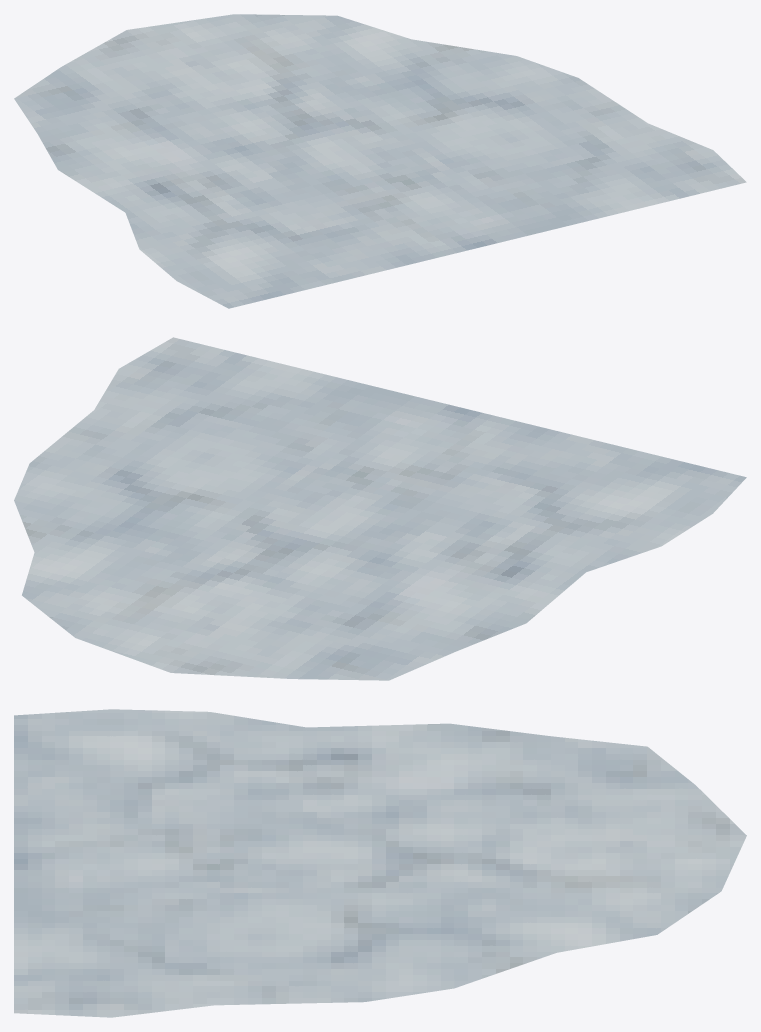
Rendered from SnowyRoadt Edge.fbx.
3 renders of one model, top to bottom at view 1: azimuth 30°, elevation 25°; view 2: azimuth 150°, elevation 25°; view 3: azimuth 270°, elevation 25°, orthographic. The views are drawn at different scales.
Visible parts, largest first — view 1: SnowyRoadt_Edge; view 2: SnowyRoadt_Edge; view 3: SnowyRoadt_Edge.
Part boxes in pixels (x1=…): SnowyRoadt_Edge: x1=14, y1=14, x2=746, y2=308; SnowyRoadt_Edge: x1=14, y1=337, x2=746, y2=680; SnowyRoadt_Edge: x1=14, y1=709, x2=746, y2=1017.
Size of the model in its own units: 0.8285 by 0 by 0.8321.
